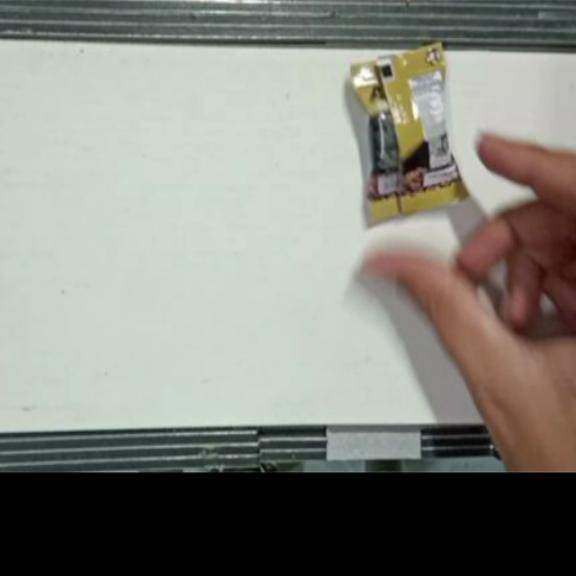Plastik: (349, 41, 468, 217)
